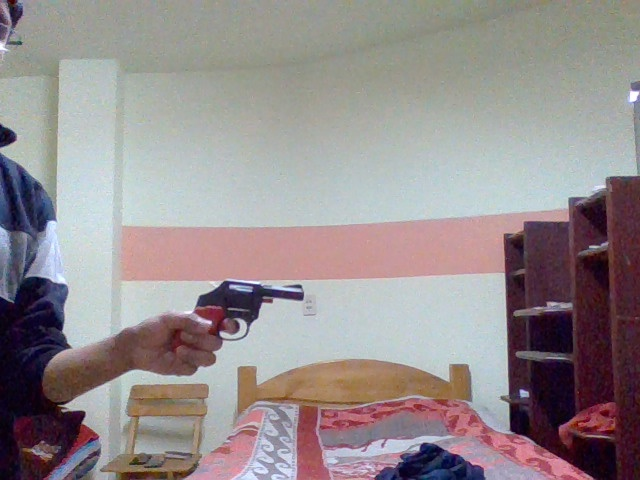pistola: (146, 273, 327, 370)
